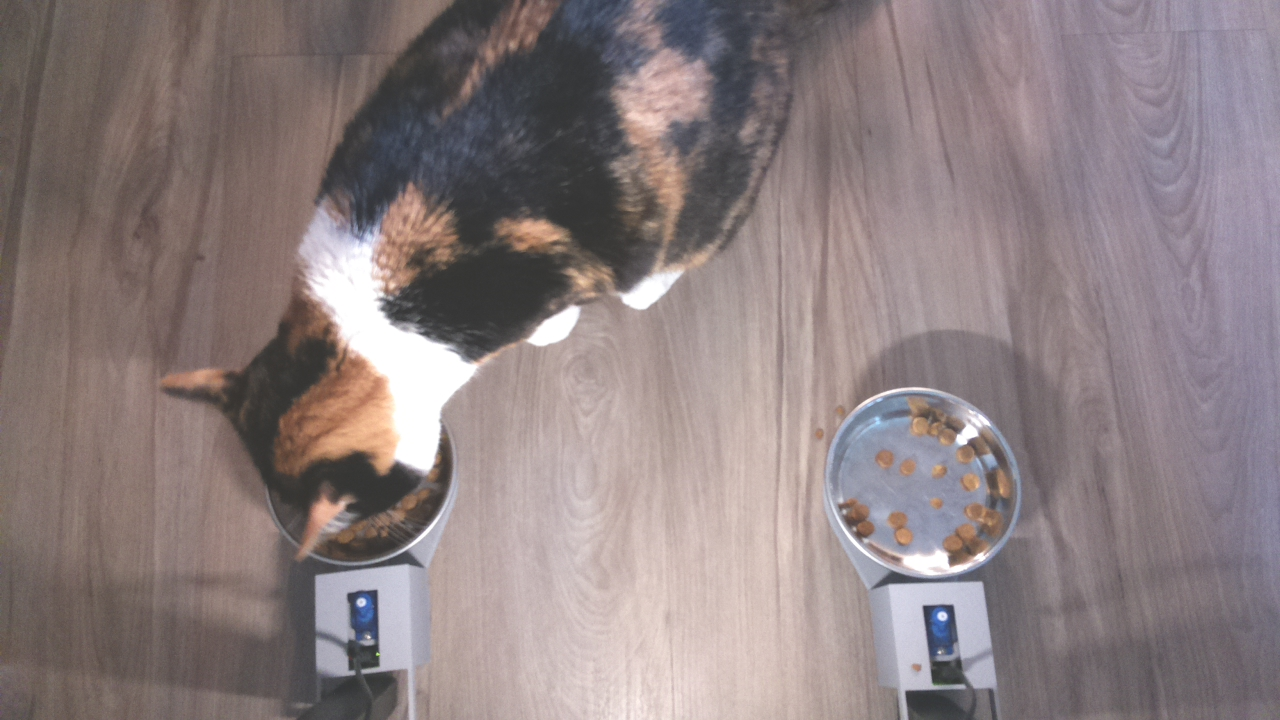bella_eating: (152, 266, 459, 578)
open_bowl: (819, 377, 1027, 580)
